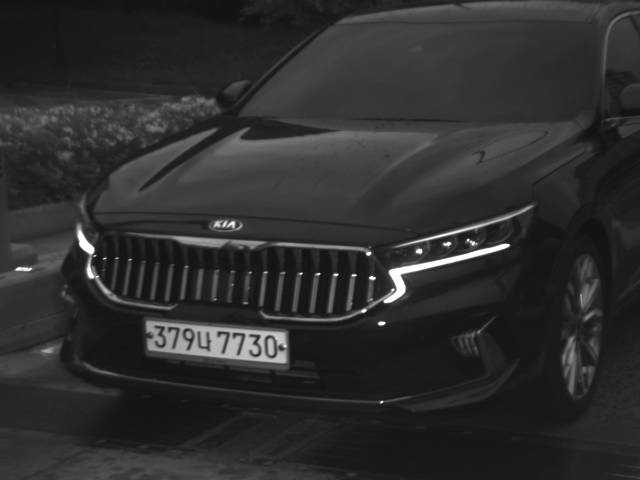car: (54, 1, 639, 421)
plate: (141, 318, 291, 367)
